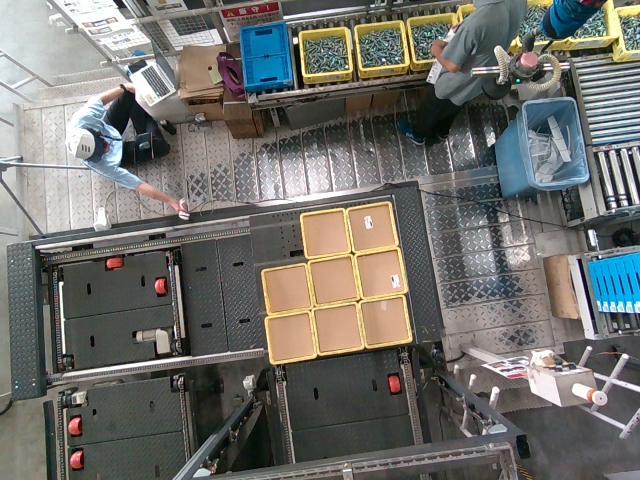box: (301, 208, 349, 258), (347, 204, 395, 254), (355, 249, 403, 299), (309, 255, 357, 305), (260, 264, 308, 314), (265, 313, 313, 363), (317, 305, 365, 355), (362, 295, 410, 345)
